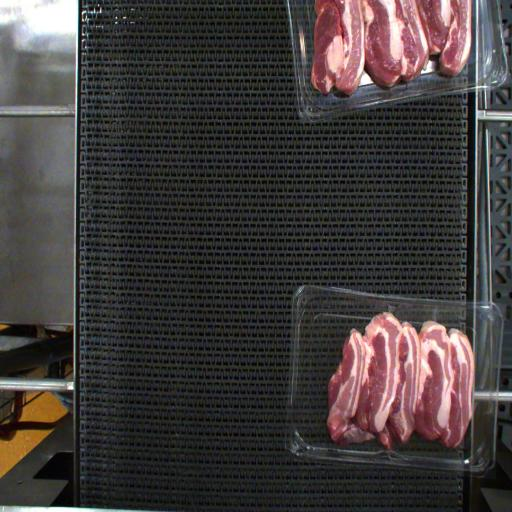packaging-error: (429, 306, 440, 325), (388, 304, 400, 318)
